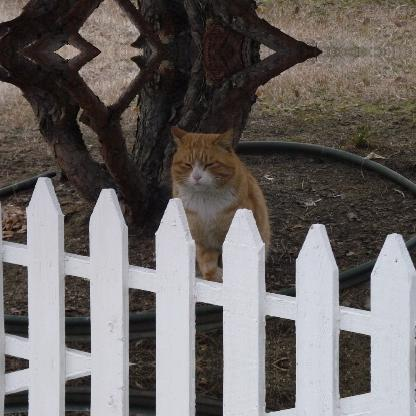Cat: (160, 127, 270, 281)
